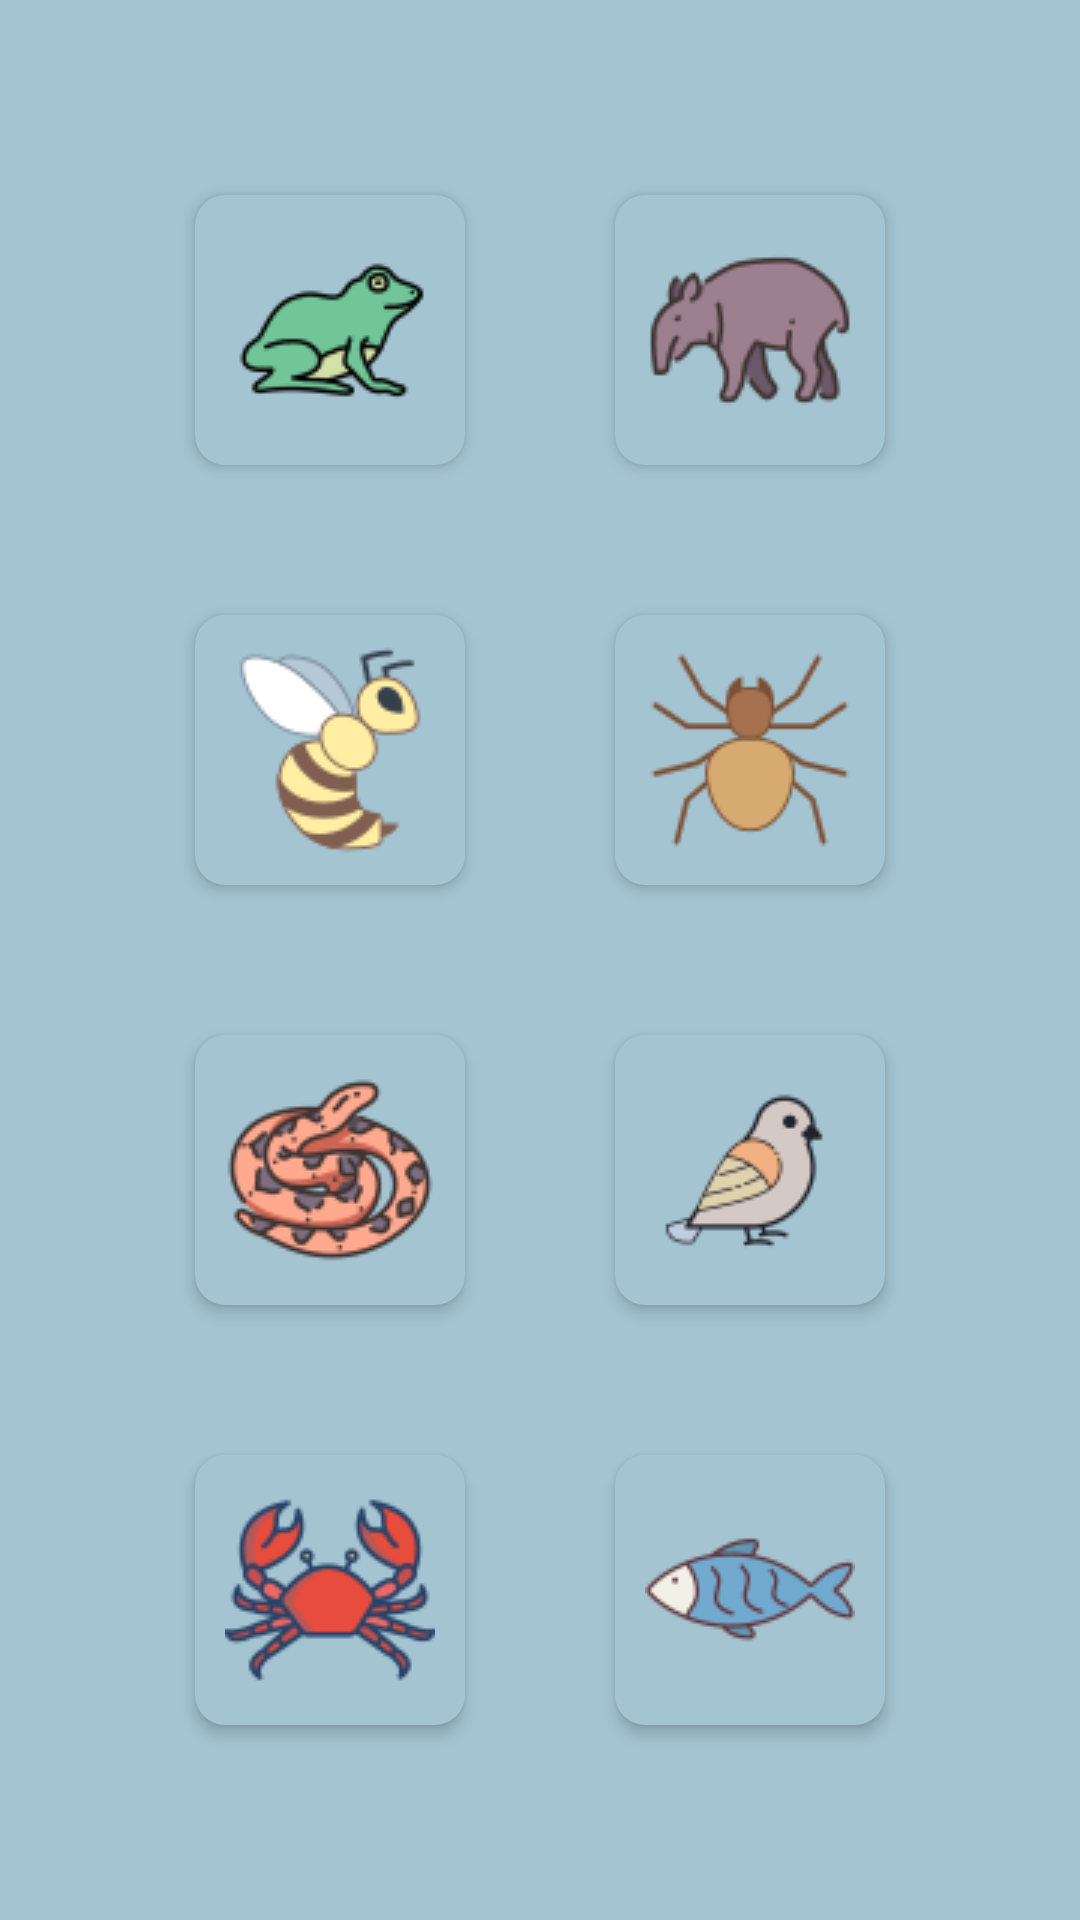

Where to tap for icons on this 1080px x 1920px app screen, as (x=x, y=y):
amphibians: (x=331, y=330)
arachnids: (x=750, y=750)
birds: (x=744, y=1170)
crustaceans: (x=330, y=1590)
fishes: (x=750, y=1589)
insects: (x=331, y=750)
mammals: (x=750, y=330)
reptiles: (x=330, y=1170)
